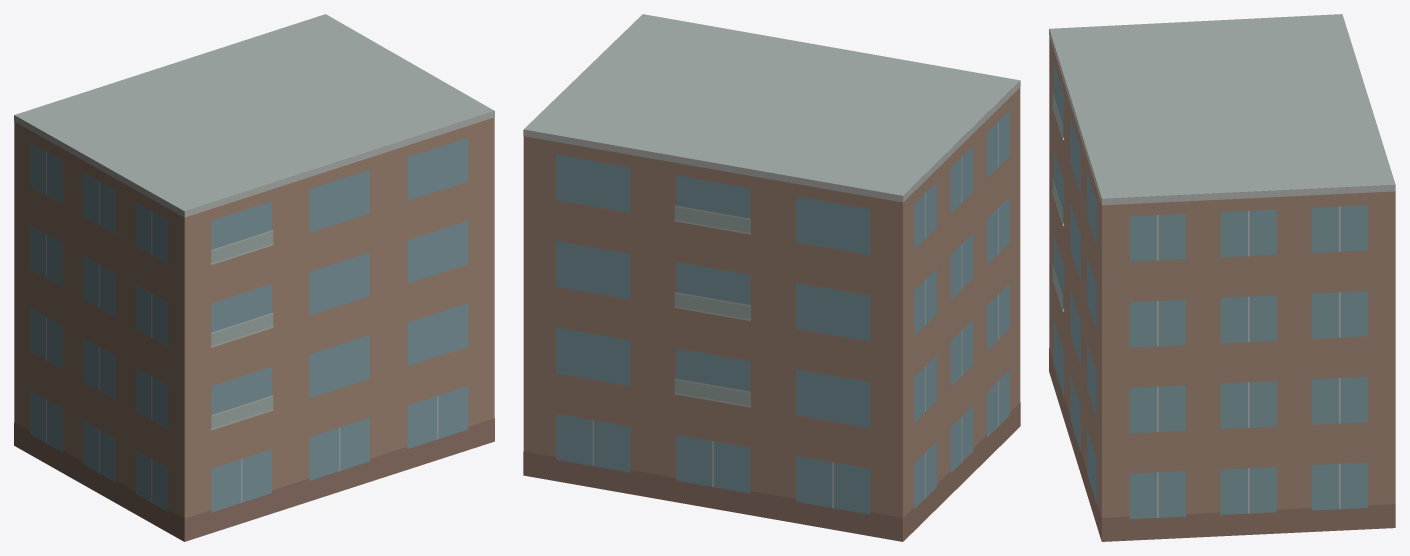
Rendered from survey-upis-32532702.glb.
3 views of the same model, side by side, from view 1: azimuth 30°, elevation 25°; view 2: azimuth 150°, elevation 25°; view 3: azimuth 270°, elevation 25° (orthographic). The views are drawn at different scales.
Visible parts, largest first — view 1: survey-upis-32532702.tmp; view 2: survey-upis-32532702.tmp; view 3: survey-upis-32532702.tmp.
Part boxes in pixels (x1,y1,x2,y2): survey-upis-32532702.tmp: (14,14,494,541); survey-upis-32532702.tmp: (523,14,1020,541); survey-upis-32532702.tmp: (1049,14,1395,541).
Bounding box in the file's own units: 14.55 × 12.6 × 11.54.
